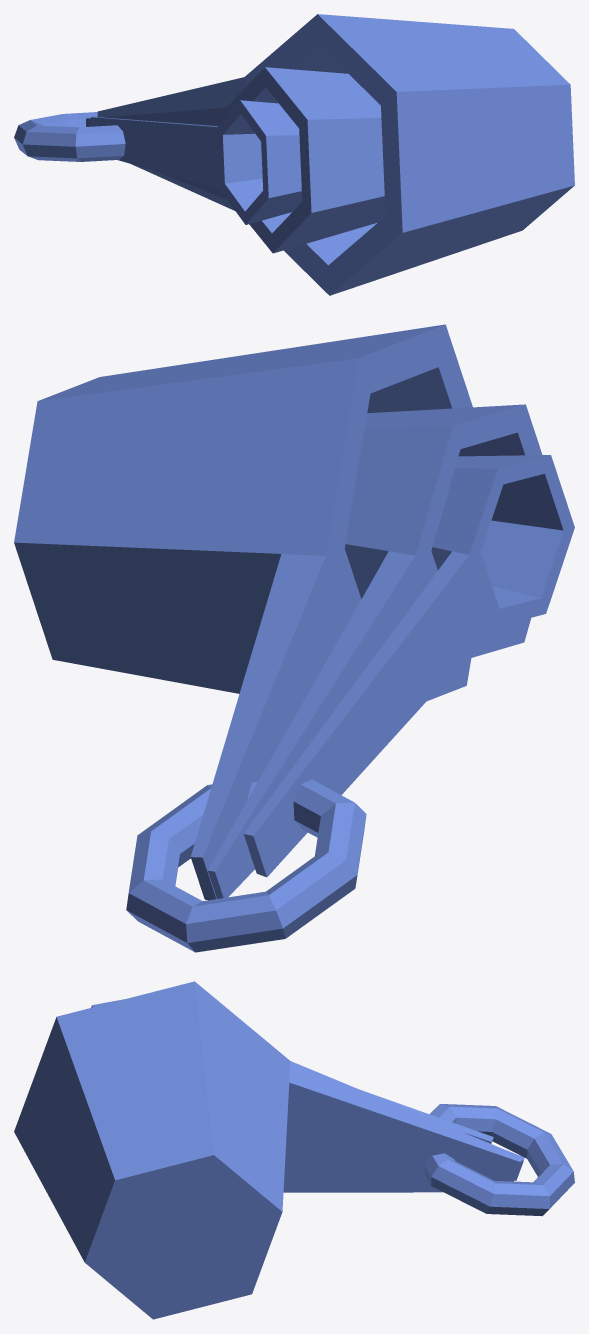
Rendered from Measuring Cups.fbx.
3 renders of one model, top to bottom at view 1: azimuth 30°, elevation 25°; view 2: azimuth 150°, elevation 25°; view 3: azimuth 270°, elevation 25°, orthographic. The views are drawn at different scales.
Visible parts, largest first — view 1: Measuring Cups; view 2: Measuring Cups; view 3: Measuring Cups.
Part boxes in pixels (x1=…): Measuring Cups: x1=14, y1=14, x2=574, y2=295; Measuring Cups: x1=14, y1=324, x2=574, y2=952; Measuring Cups: x1=14, y1=981, x2=574, y2=1319.
Bounding box in the file's own units: 42.37 × 56.78 × 27.7.
